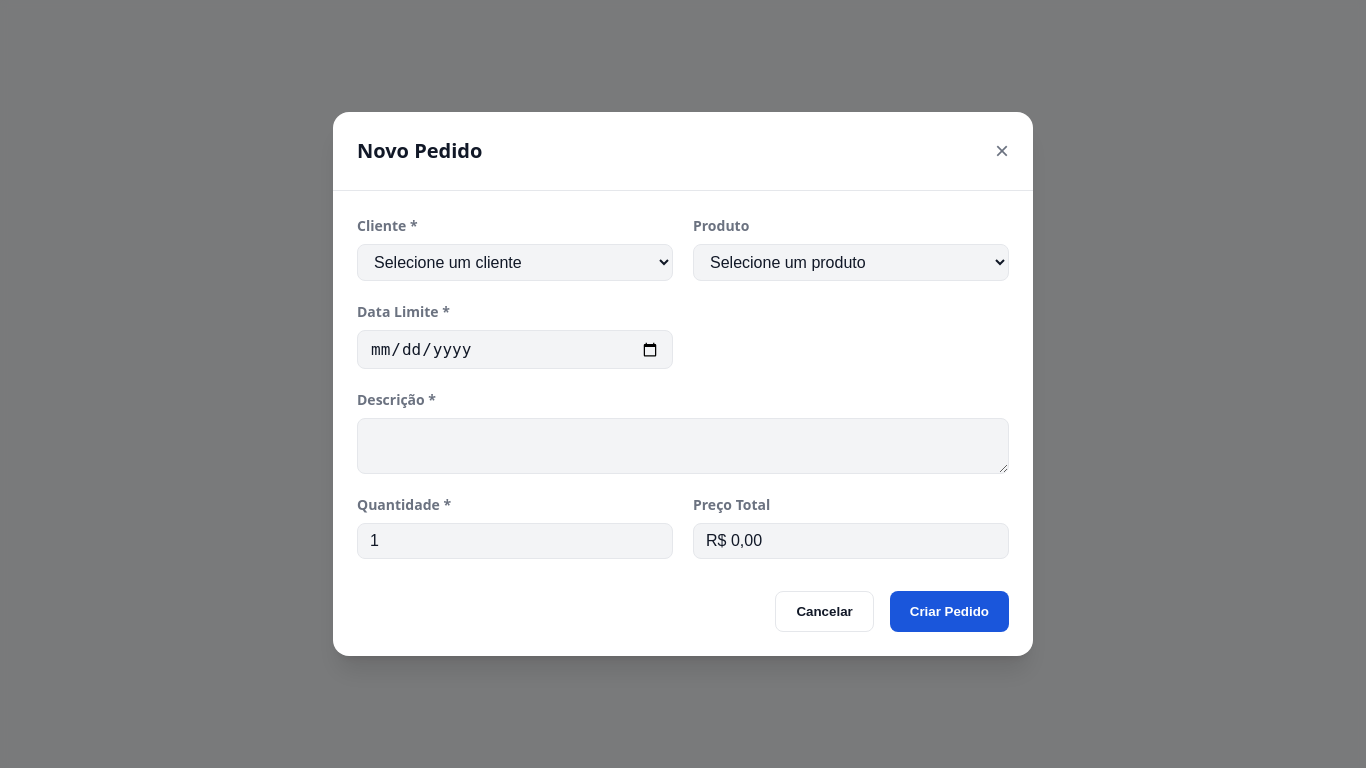
Test: OrderModal › exibe erros de validação ao tentar salvar vazio
Click the button "Criar Pedido": x=949, y=612 [890,591,1009,632]
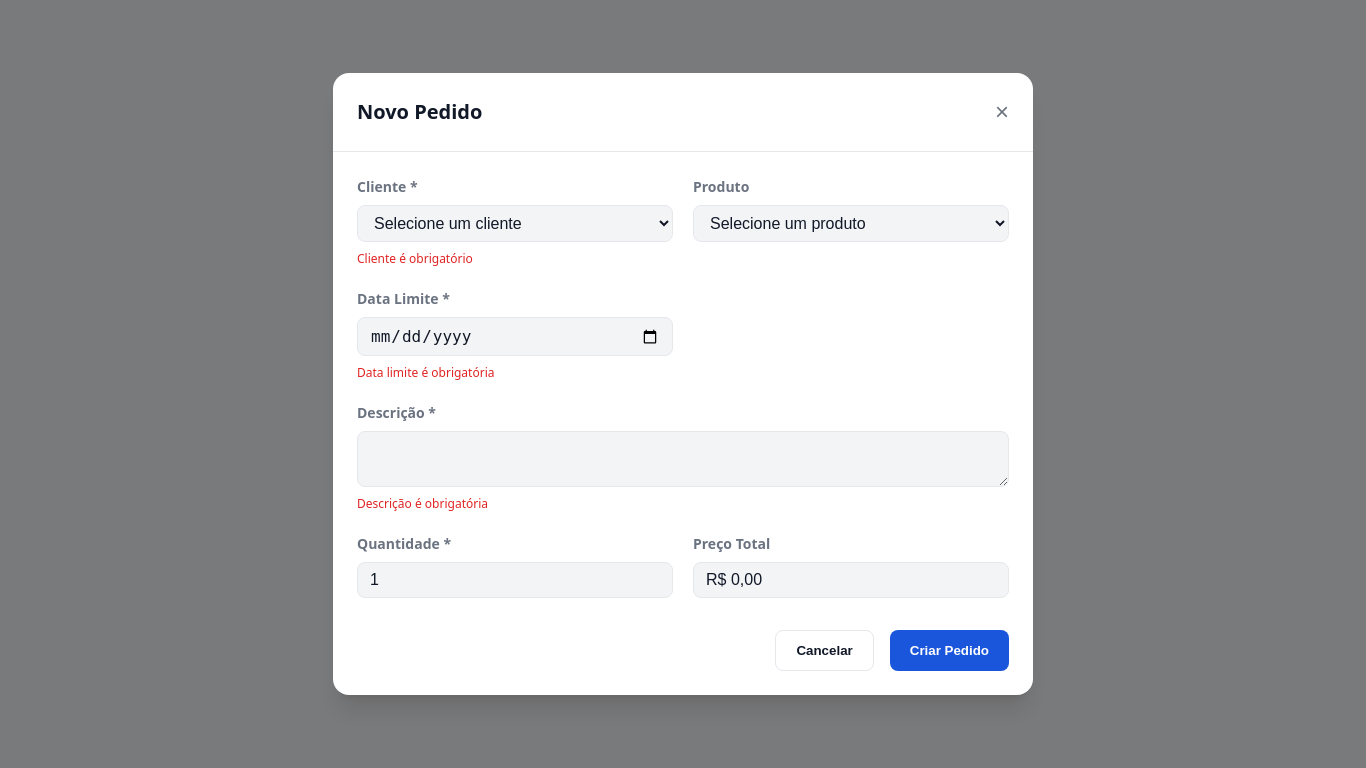
Now the text "Cliente é obrigatório" is shown, box [357,250,473,267]
